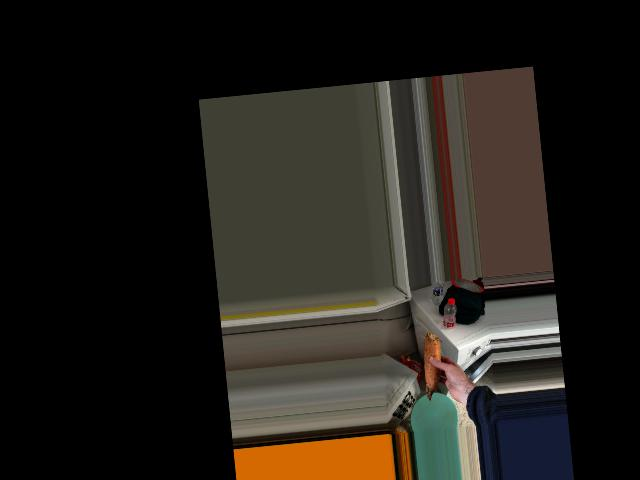sweet_potato: (415, 334, 446, 401)
